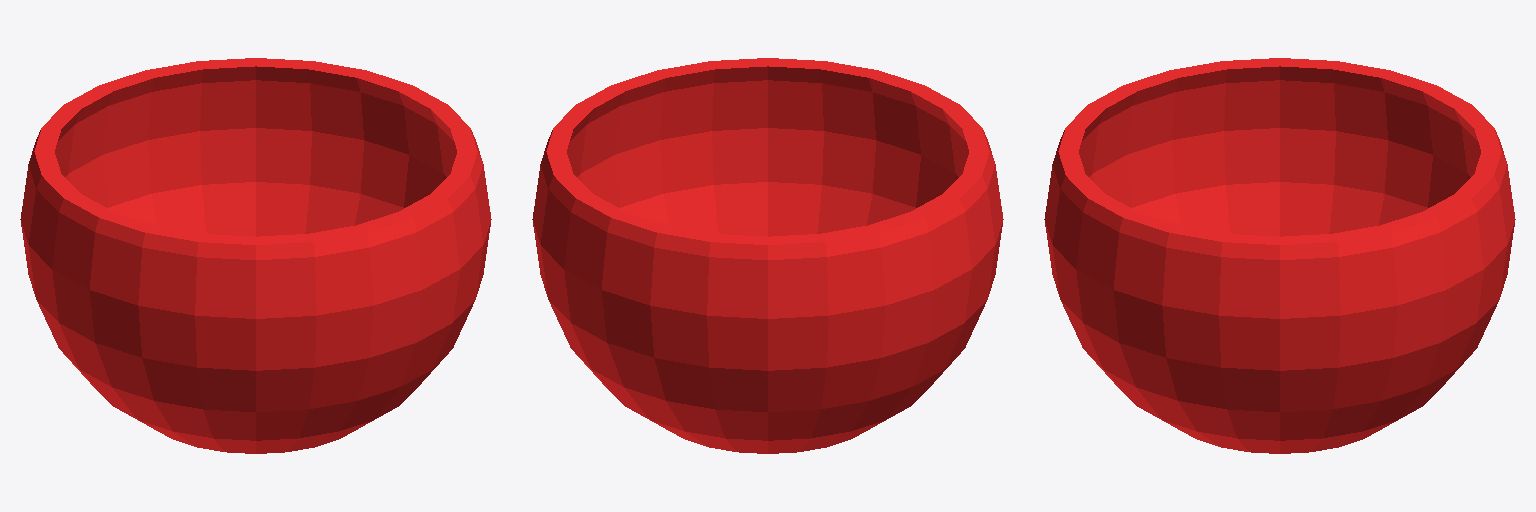
robot.urdf — bowl:
<?xml version="0.0" ?>
<robot name="bowl">
    <link concave="yes" name="base_link">
        <!-- <contact>
            <lateral_friction value="3.0"/>
            <rolling_friction value="3.0"/>
            <spinning_friction value="3.0"/>
        </contact> -->
        <inertial>
            <origin xyz="0 0 0.03"/>
            <mass value="1"/>
            <inertia ixx="1" ixy="0" ixz="0" iyy="1" iyz="0" izz="1"/>
        </inertial>
        <visual>
            <origin xyz="0 0 -0.06"/>
            <geometry>
                <mesh filename="bowl.obj" scale="0.0005 0.0005 0.0005 "/>
            </geometry>
      <material name="bowl">
        <color rgba="1 0.2 0.2 1"/>
        <specular rgb="1 1 1"/>
      </material>
        </visual>
        <collision concave="yes">
            <origin xyz="0 0 -0.06"/>
            <geometry>
                <mesh filename="bowl.obj" scale="0.0005 0.0005 0.0005 "/>
            </geometry>
        </collision>
    </link>
</robot>

--- Facts derived from the render (not from the file) ---
The picture shows the robot from 3 angles, left to right: view 1: azimuth 30°, elevation 25°; view 2: azimuth 150°, elevation 25°; view 3: azimuth 270°, elevation 25°; orthographic projection.
Robot: bowl — 1 links, 0 joints (none); root link base_link; default pose: all joints at 0.
Visible links, largest first — view 1: base_link; view 2: base_link; view 3: base_link.
Link boxes in pixels (box(x1,y1,x2,y2)): base_link: box(20, 58, 491, 453); base_link: box(532, 58, 1003, 453); base_link: box(1044, 58, 1515, 453).
Size in the robot's own frame: 0.1331 by 0.1331 by 0.0877 metres.
Meshes: 1 distinct files referenced, 1 mesh visuals loaded (1 OBJ).